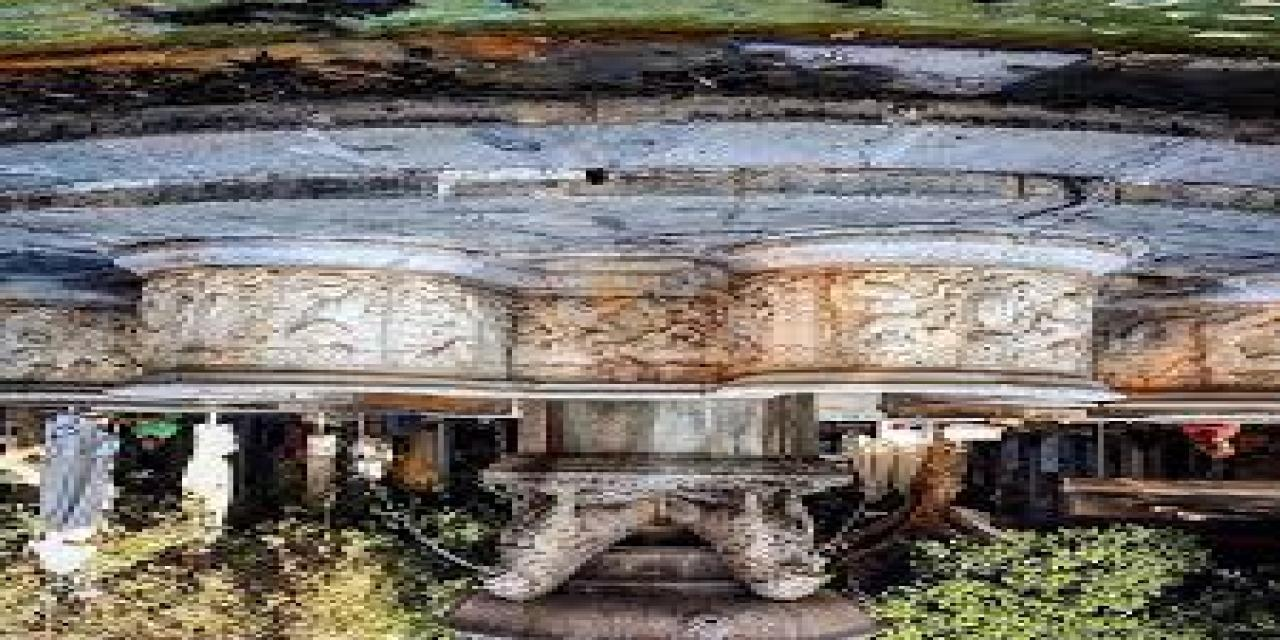Liontaria: (16, 233, 1278, 635)
